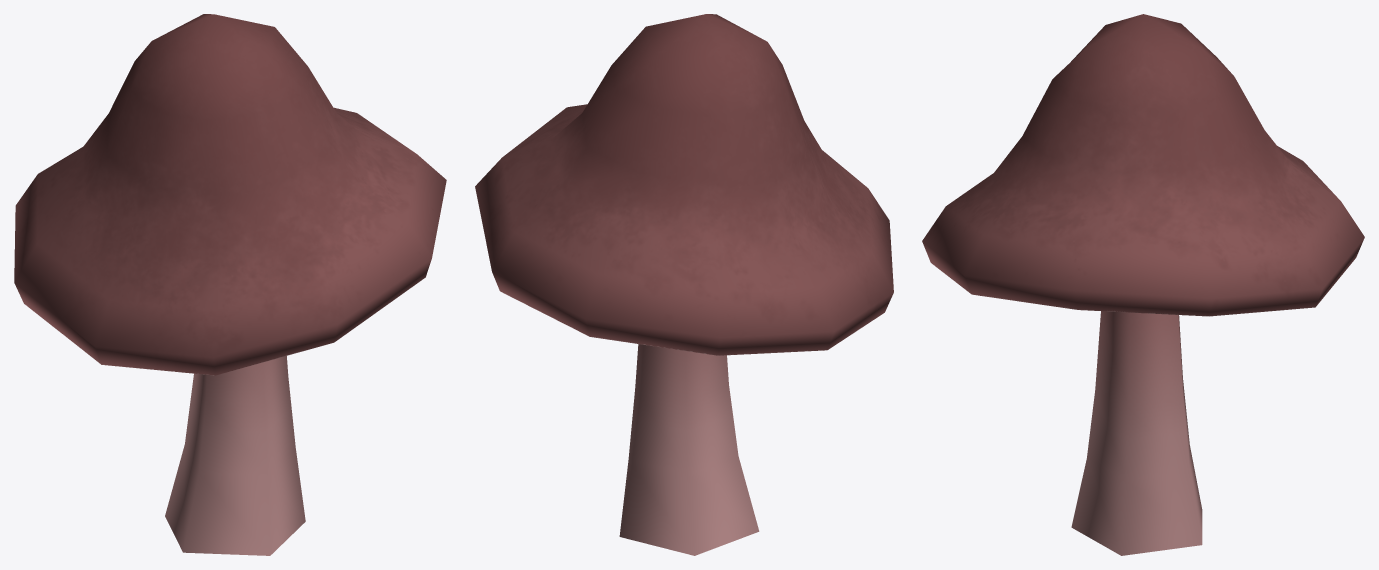
3 renders of one model, left to right at view 1: azimuth 30°, elevation 25°; view 2: azimuth 150°, elevation 25°; view 3: azimuth 270°, elevation 25°, orthographic. The views are drawn at different scales.
Parts seen in each view (by area): view 1: submesh_0; view 2: submesh_0; view 3: submesh_0.
Boxes of the visible parts, box(x1,y1,x2,y2) form: submesh_0: box(14, 14, 446, 555); submesh_0: box(475, 14, 893, 555); submesh_0: box(922, 14, 1364, 555).
Size of the model in its own units: 0.2569 by 0.3522 by 0.28.
Materials: 1 (1 with a texture image).
